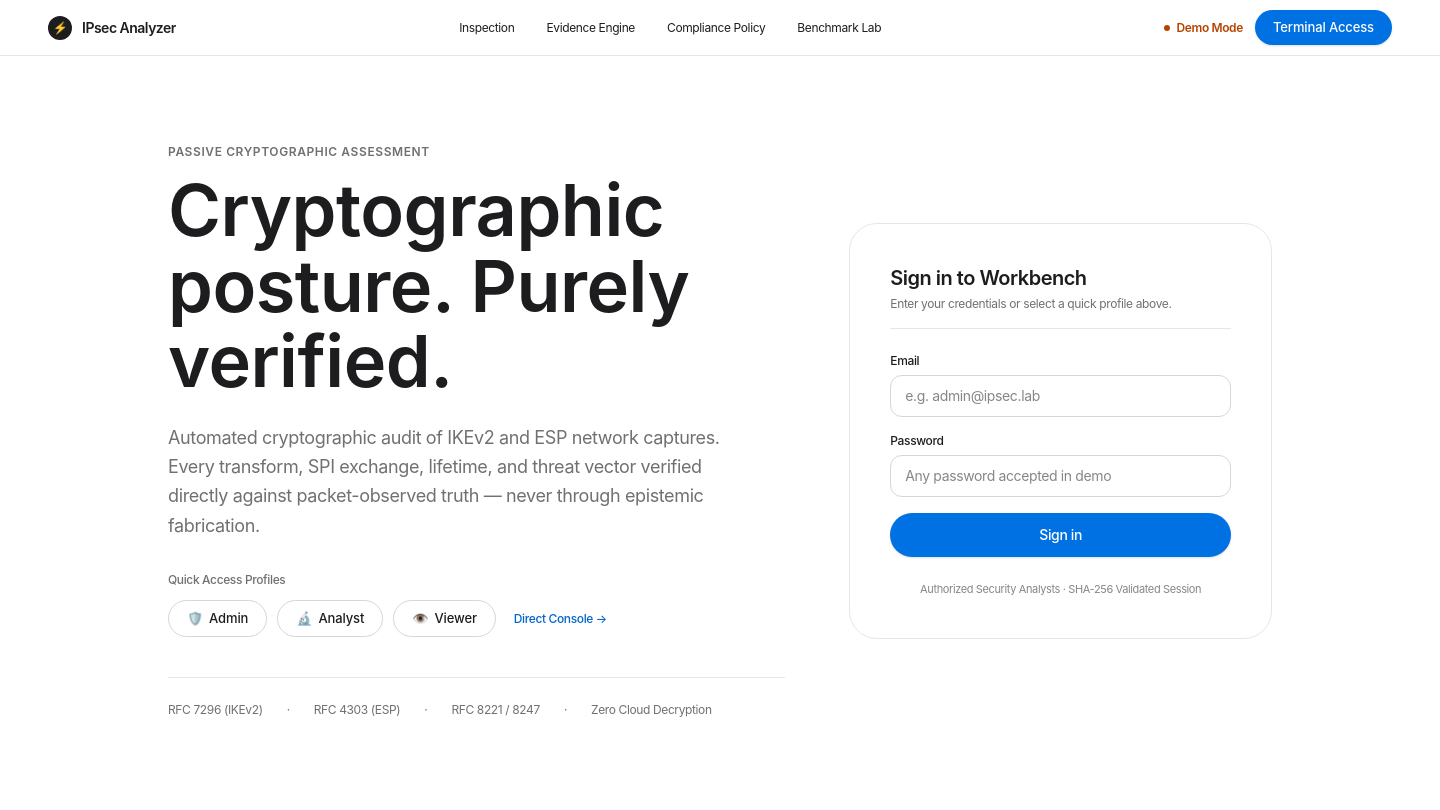
authentication › logs in and shows identity, organization, and role
Type "analyst@example.test" into the field labelled "Email" at point(1061, 396), box left=890, top=375, right=1231, bottom=417
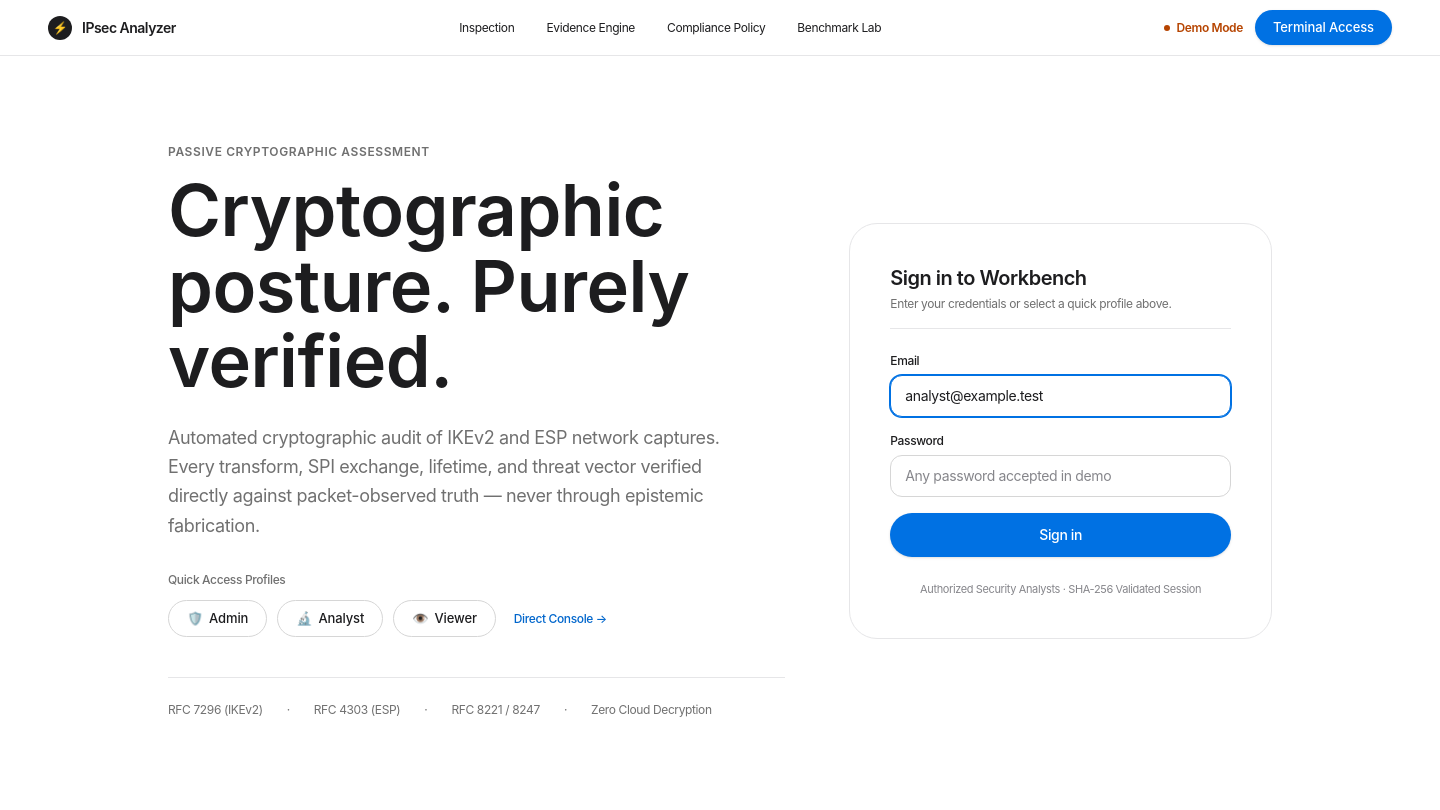
Type "correct-password" into the password field labelled "Password" at point(1061, 476), box left=890, top=455, right=1231, bottom=497
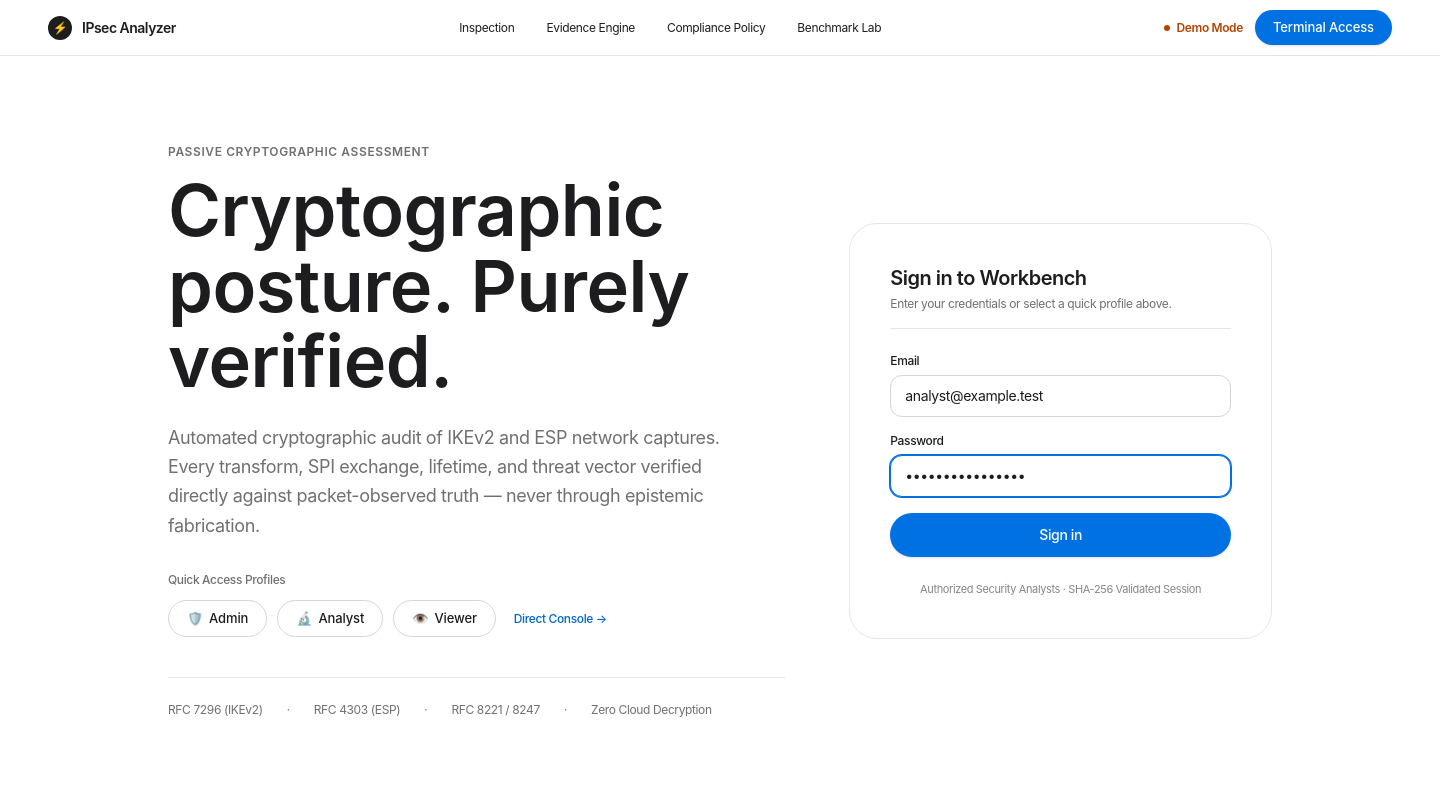
Click the button "Sign in" at point(1061, 535), box left=890, top=513, right=1231, bottom=557
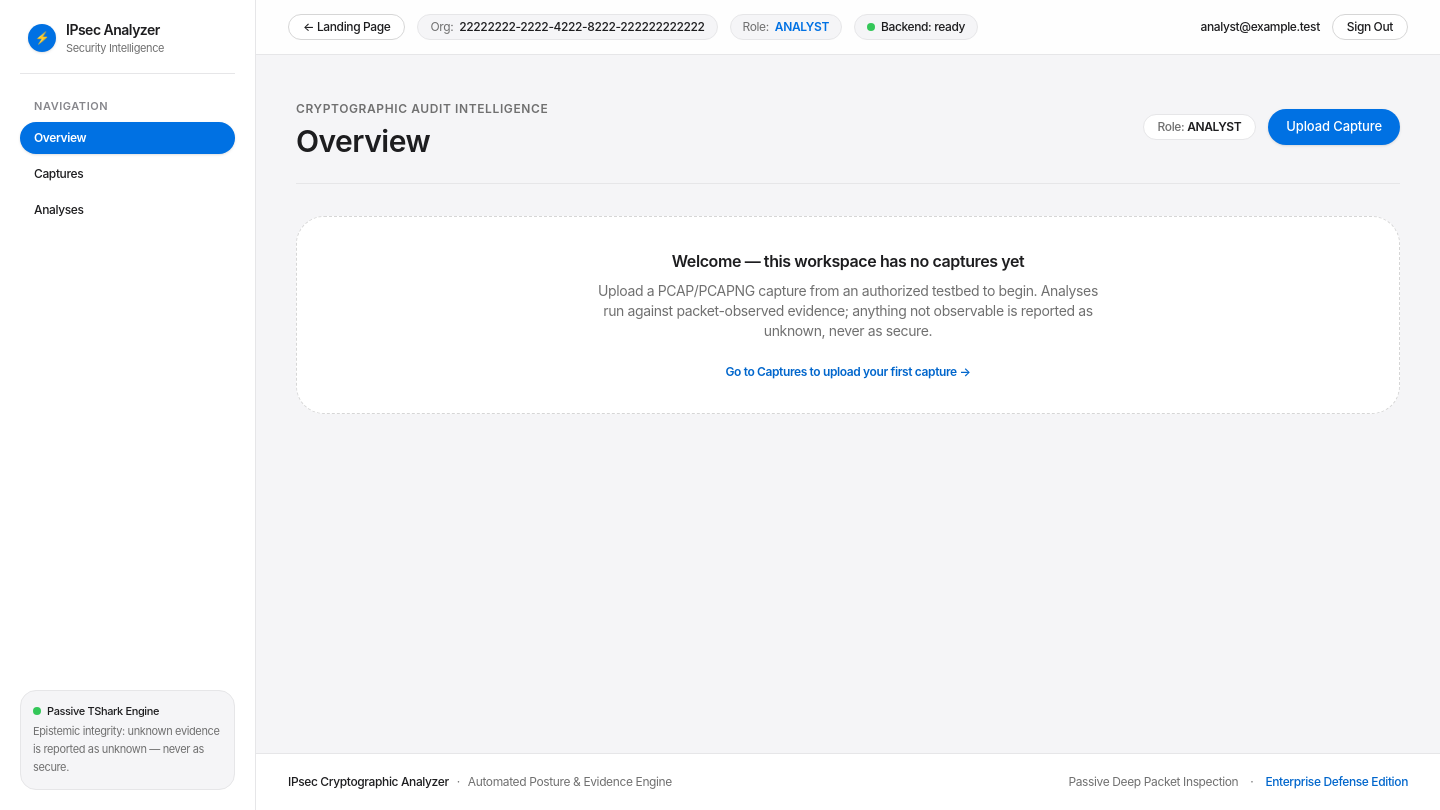
expect the heading "Overview" is shown: met, box left=296, top=123, right=430, bottom=159
expect the text "analyst@example.test" is shown: met, box left=1200, top=19, right=1320, bottom=35
expect the text "analyst" next to "Backend:" is shown: met, box left=775, top=19, right=829, bottom=34
